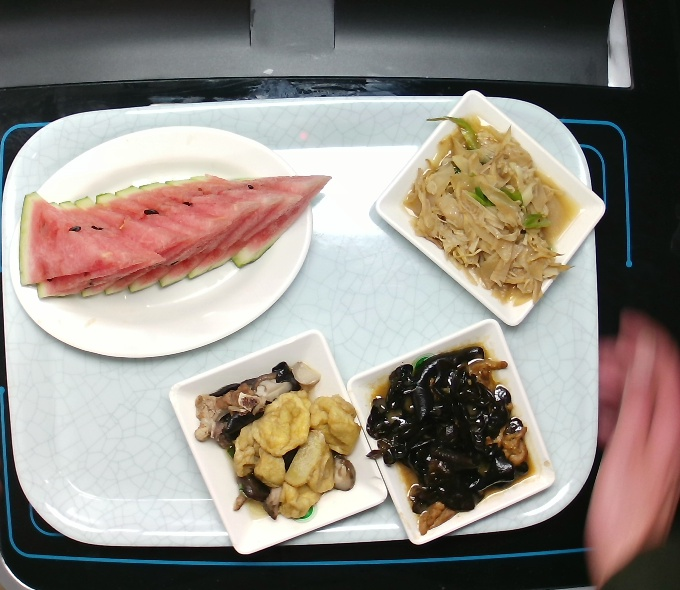wcq-LuSun: (399, 104, 572, 308)
wcq-MuErChaoRou: (362, 340, 537, 534)
wcq-XiGua: (8, 161, 345, 312)
wcq-YouPaoPaiGu: (196, 350, 360, 527)
